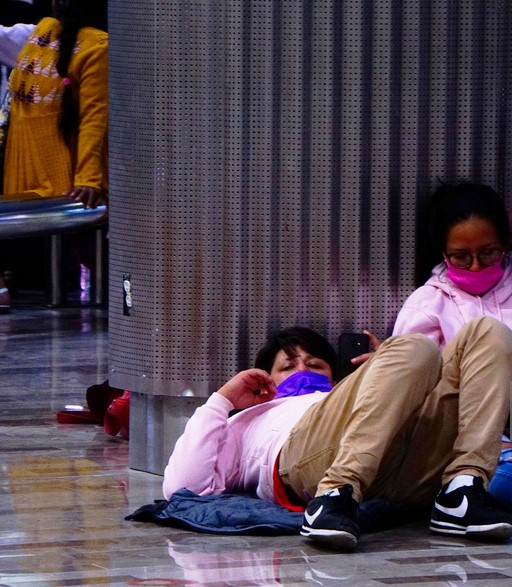face_with_mask: (438, 198, 510, 296), (257, 329, 337, 397)
